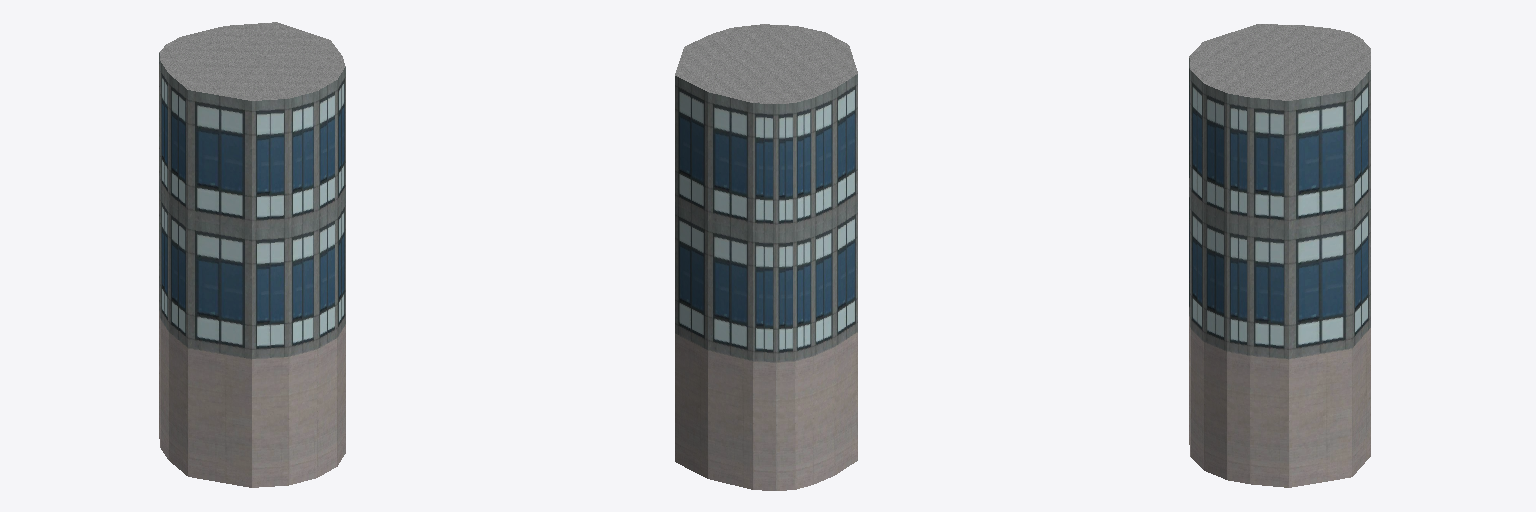
The picture shows the model from 3 angles: view 1: azimuth 30°, elevation 25°; view 2: azimuth 150°, elevation 25°; view 3: azimuth 270°, elevation 25°; orthographic projection.
Visible parts, largest first — view 1: BuildingMaster_[number redacted]_0, BuildingMaster_[number redacted]_1; view 2: BuildingMaster_[number redacted]_0, BuildingMaster_[number redacted]_1; view 3: BuildingMaster_[number redacted]_0, BuildingMaster_[number redacted]_1.
Part boxes in pixels (bbox=[...]): BuildingMaster_[number redacted]_0: bbox=[159, 53, 345, 487]; BuildingMaster_[number redacted]_1: bbox=[159, 22, 345, 100]; BuildingMaster_[number redacted]_0: bbox=[675, 74, 857, 490]; BuildingMaster_[number redacted]_1: bbox=[675, 24, 857, 103]; BuildingMaster_[number redacted]_0: bbox=[1189, 58, 1370, 487]; BuildingMaster_[number redacted]_1: bbox=[1189, 24, 1370, 100].
Bounding box in the file's own units: 4.49 × 10.5 × 4.46.
Materials: 2 (2 with a texture image).